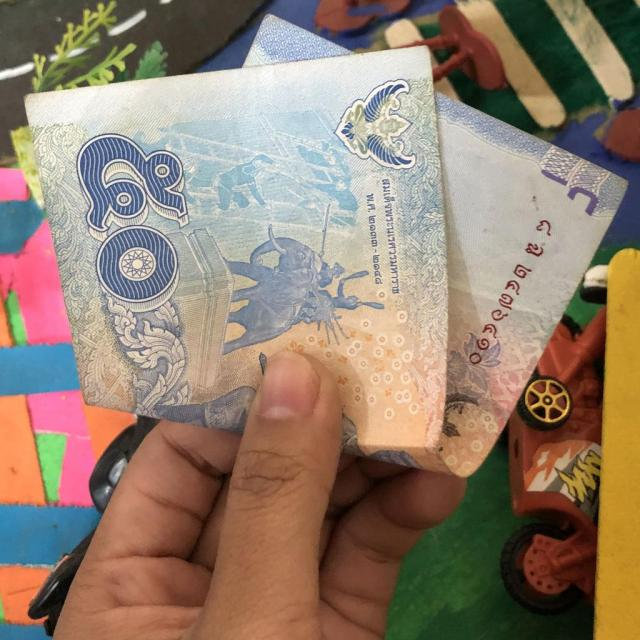THAI50: (26, 16, 624, 477)
